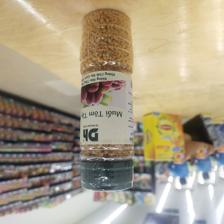TayNinh_green: (77, 5, 136, 193)
